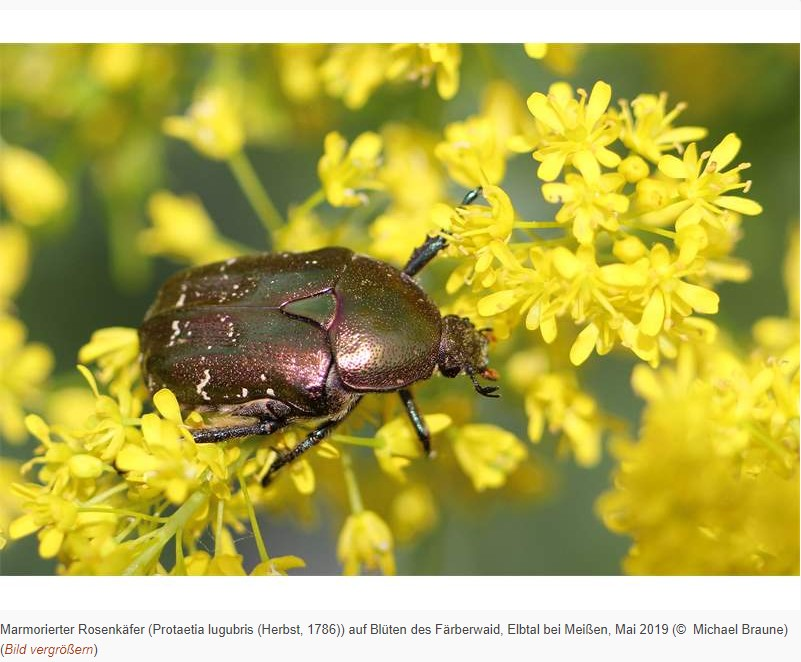Protaetia_lugubris: (136, 185, 503, 489)
